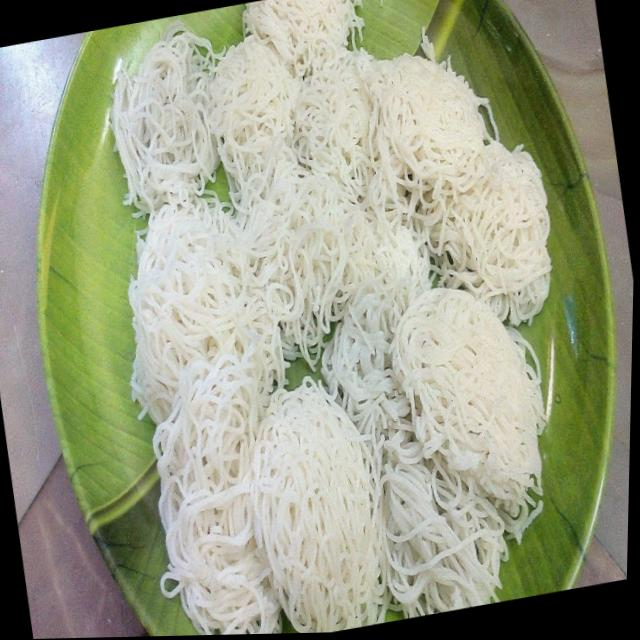IDIYAPPAM: (108, 0, 552, 635)
